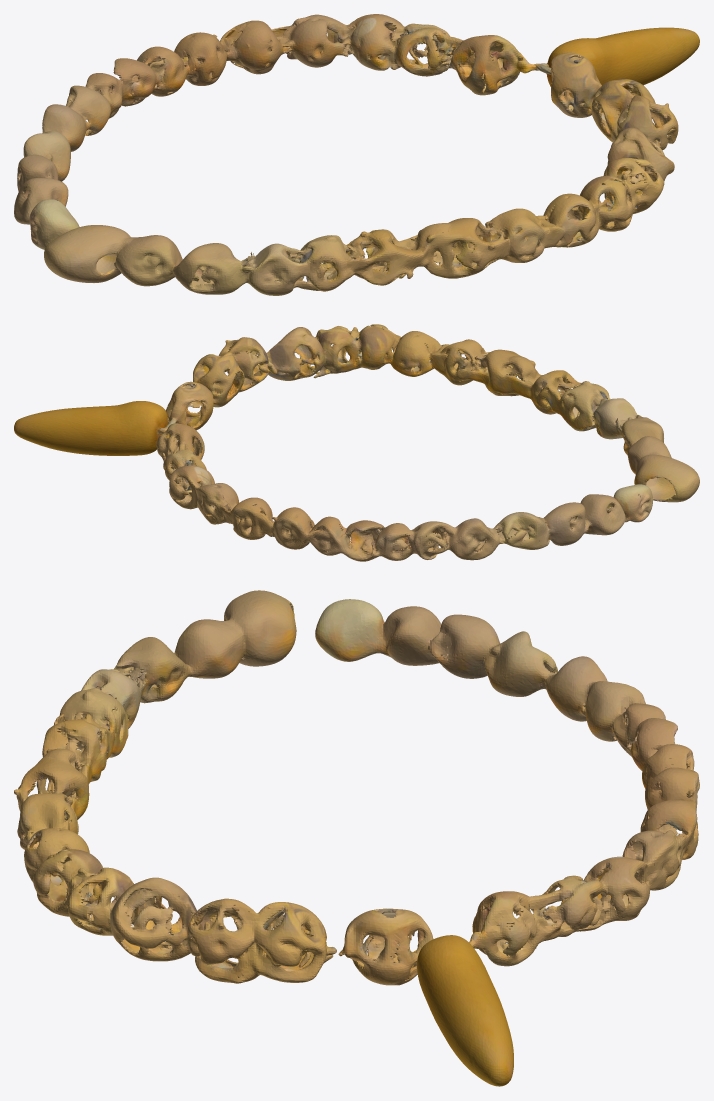
Rendered from collar_Kunturhuasi.glb.
3 renders of one model, top to bottom at view 1: azimuth 30°, elevation 25°; view 2: azimuth 150°, elevation 25°; view 3: azimuth 270°, elevation 25°, orthographic. The views are drawn at different scales.
Parts seen in each view (by area): view 1: tripo_node_4341d691-bac4-4e96-9084-0de26621c300; view 2: tripo_node_4341d691-bac4-4e96-9084-0de26621c300; view 3: tripo_node_4341d691-bac4-4e96-9084-0de26621c300.
Part boxes in pixels (x1=…): tripo_node_4341d691-bac4-4e96-9084-0de26621c300: x1=14, y1=14, x2=699, y2=295; tripo_node_4341d691-bac4-4e96-9084-0de26621c300: x1=14, y1=324, x2=699, y2=561; tripo_node_4341d691-bac4-4e96-9084-0de26621c300: x1=14, y1=590, x2=699, y2=1086.
Size of the model in its own units: 1 by 0.1127 by 0.6669.
Materials: 1 (1 with a texture image).
